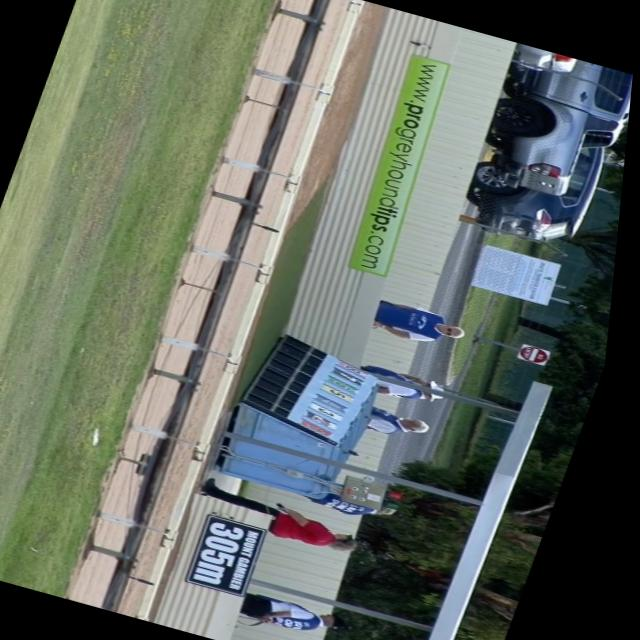rail: (109, 0, 326, 612)
